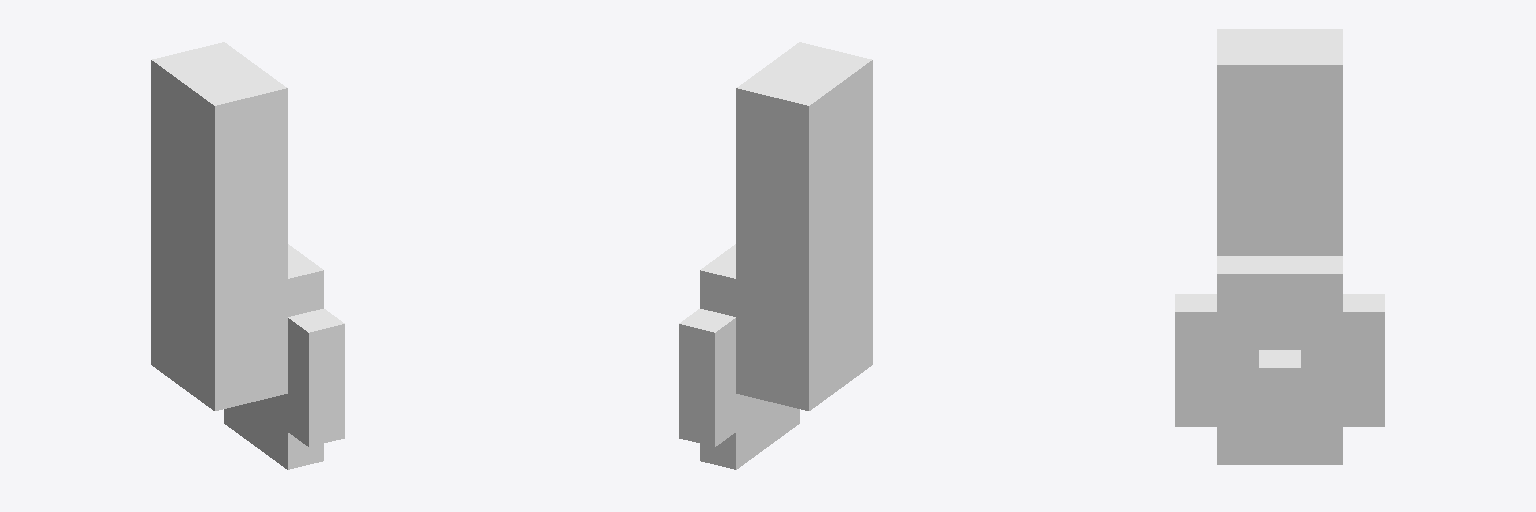
The model's file is Brogy_BL.obj.
The picture shows the model from 3 angles: view 1: azimuth 30°, elevation 25°; view 2: azimuth 150°, elevation 25°; view 3: azimuth 270°, elevation 25°; orthographic projection.
Parts seen in each view (by area): view 1: object 1; view 2: object 1; view 3: object 1.
Part boxes in pixels (x1,y1,x2,y2): object 1: (151,42,344,469); object 1: (679,42,872,469); object 1: (1175,29,1384,464).
Bounding box in the file's own units: 0.4 × 1 × 0.5.